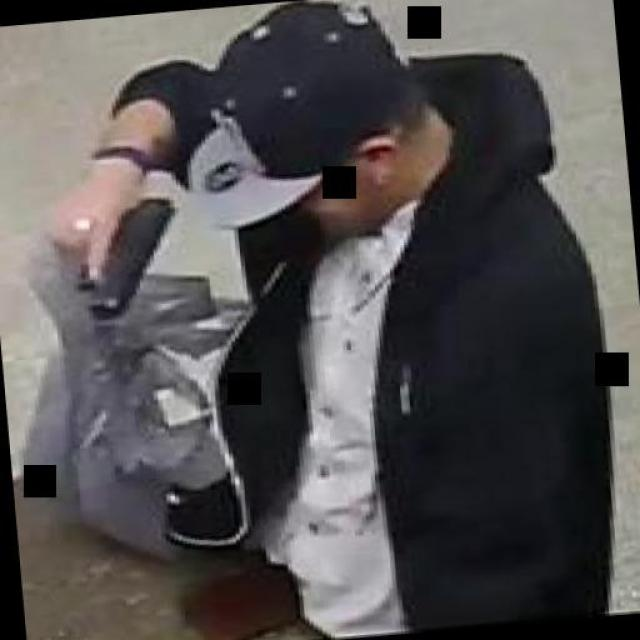gun: (38, 190, 178, 319)
